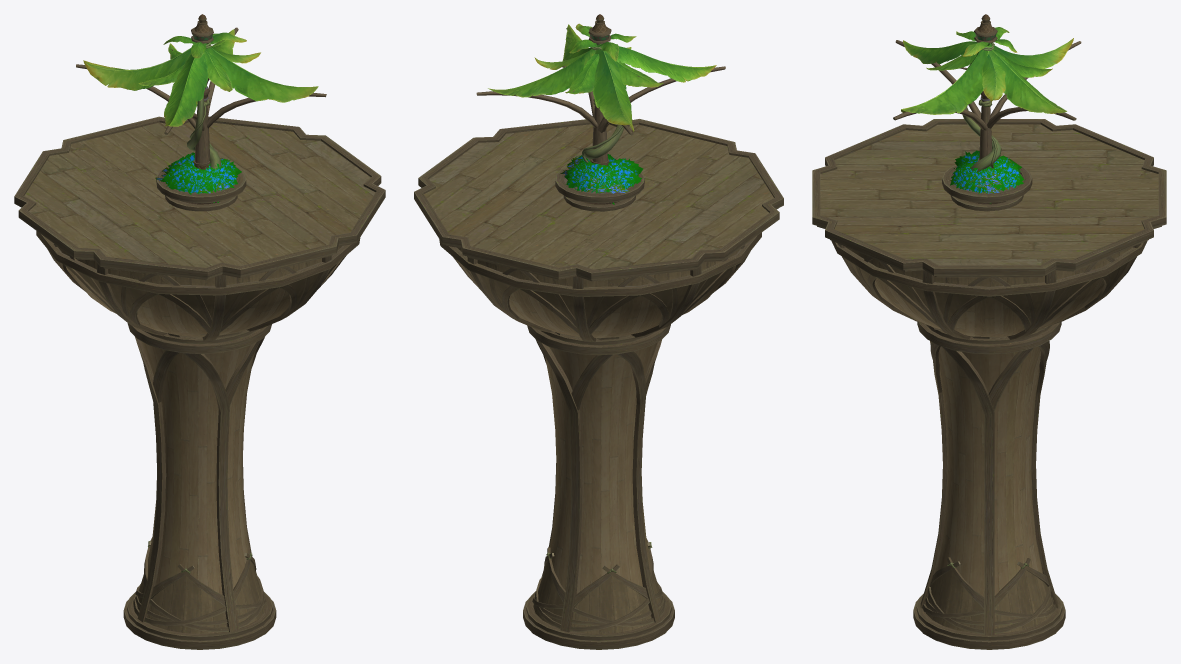
File: Homeworld_Exterior_Xm_Build_House_06_Lod0.fbx
3 renders of one model, left to right at view 1: azimuth 30°, elevation 25°; view 2: azimuth 150°, elevation 25°; view 3: azimuth 270°, elevation 25°, orthographic.
Visible parts, largest first — view 1: Homeworld_Exterior_Xm_Build_House_06_Lod0, Homeworld_Exterior_Xm_Build_House_06_01_Lod0, Homeworld_Exterior_Xm_Build_House_06_02_Lod0; view 2: Homeworld_Exterior_Xm_Build_House_06_Lod0, Homeworld_Exterior_Xm_Build_House_06_01_Lod0, Homeworld_Exterior_Xm_Build_House_06_02_Lod0; view 3: Homeworld_Exterior_Xm_Build_House_06_Lod0, Homeworld_Exterior_Xm_Build_House_06_01_Lod0, Homeworld_Exterior_Xm_Build_House_06_02_Lod0.
Boxes of the visible parts, <box> form: Homeworld_Exterior_Xm_Build_House_06_Lod0: <box>14,14,385,649</box>; Homeworld_Exterior_Xm_Build_House_06_01_Lod0: <box>83,29,318,126</box>; Homeworld_Exterior_Xm_Build_House_06_02_Lod0: <box>155,152,241,202</box>; Homeworld_Exterior_Xm_Build_House_06_Lod0: <box>414,14,783,649</box>; Homeworld_Exterior_Xm_Build_House_06_01_Lod0: <box>488,23,716,131</box>; Homeworld_Exterior_Xm_Build_House_06_02_Lod0: <box>560,154,643,204</box>; Homeworld_Exterior_Xm_Build_House_06_Lod0: <box>812,14,1166,649</box>; Homeworld_Exterior_Xm_Build_House_06_01_Lod0: <box>901,27,1073,114</box>; Homeworld_Exterior_Xm_Build_House_06_02_Lod0: <box>950,150,1024,203</box>.
Bounding box in the file's own units: 9.39 × 17.65 × 9.39.
